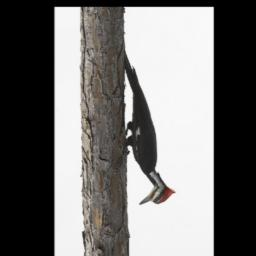Woodpecker: (125, 47, 176, 206)
